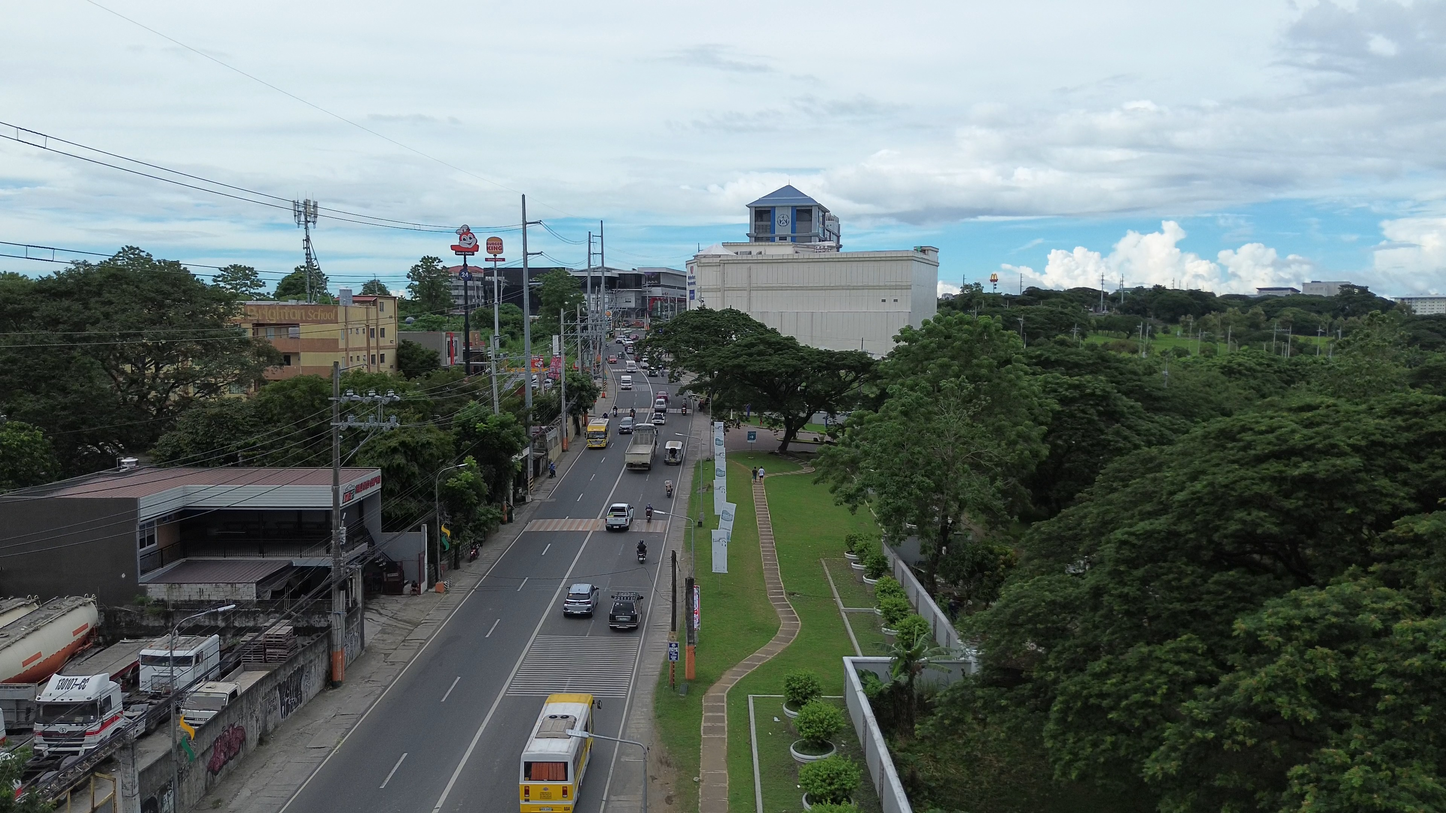bus: (519, 693, 593, 813)
car: (616, 336, 625, 344)
motorcycle: (468, 544, 479, 562), (637, 543, 646, 563), (665, 480, 673, 498)
truck: (625, 423, 657, 469)
vehicle: (0, 597, 98, 684), (33, 674, 124, 756), (140, 635, 220, 693), (182, 681, 238, 727), (609, 592, 643, 629), (563, 583, 599, 616), (605, 502, 633, 531), (586, 417, 609, 448), (665, 440, 683, 464), (617, 416, 634, 434), (654, 394, 668, 411), (651, 410, 666, 425), (619, 374, 632, 390), (625, 359, 638, 373), (607, 355, 618, 364), (616, 336, 625, 344)
